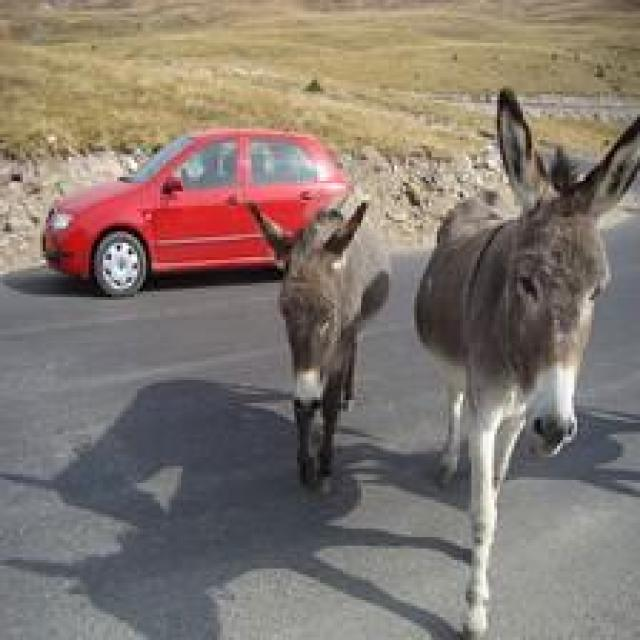Donkey: (412, 83, 637, 637), (246, 192, 391, 494)
